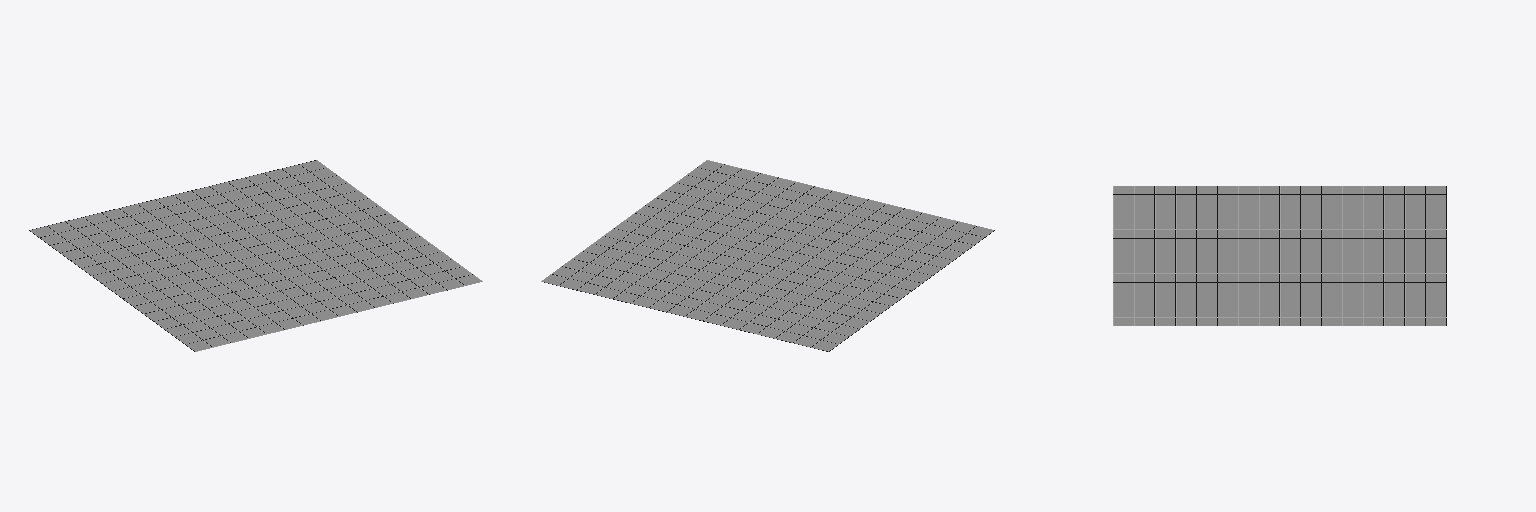
The picture shows the model from 3 angles: view 1: azimuth 30°, elevation 25°; view 2: azimuth 150°, elevation 25°; view 3: azimuth 270°, elevation 25°; orthographic projection.
Visible parts, largest first — view 1: 平面; view 2: 平面; view 3: 平面.
Part boxes in pixels (x1,y1,x2,y2): 平面: (29,160,482,351); 平面: (541,160,994,351); 平面: (1113,186,1446,325).
Bounding box in the file's own units: 2 × 0 × 2.
1 materials, 1 textured.